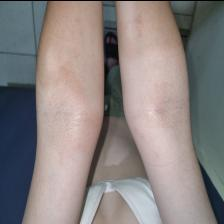DA: (36, 65, 104, 155)
